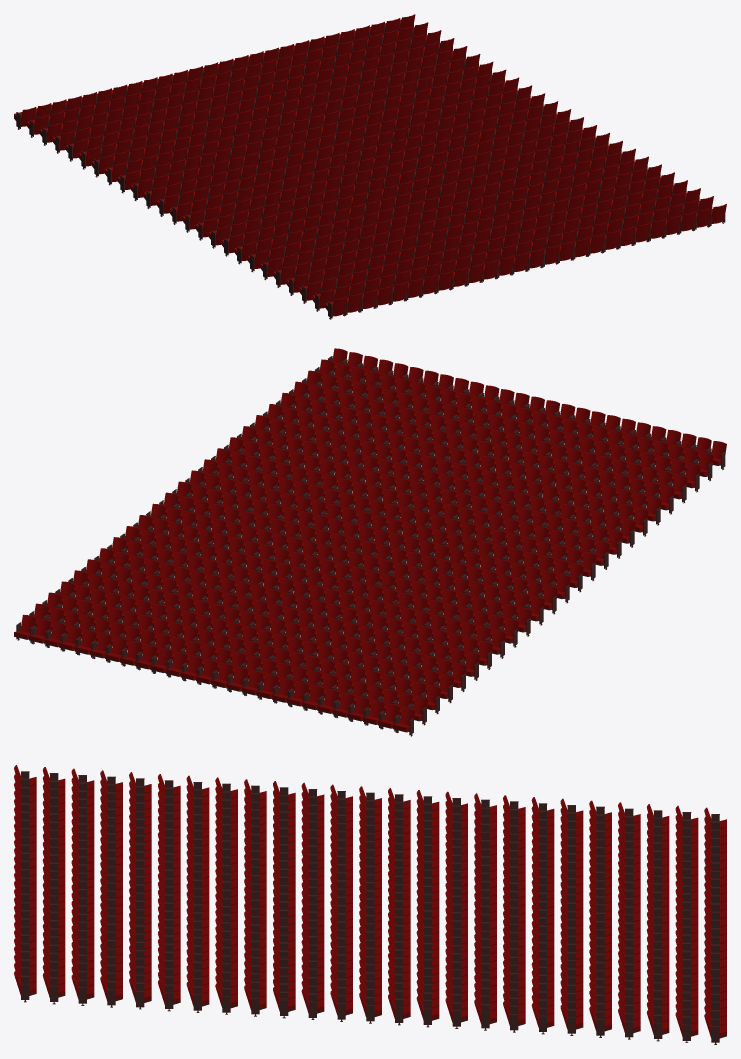
Rendered from CHAIR_SIT.FBX.
The picture shows the model from 3 angles, top to bottom: view 1: azimuth 30°, elevation 25°; view 2: azimuth 150°, elevation 25°; view 3: azimuth 270°, elevation 25°; orthographic projection. The views are drawn at different scales.
Parts seen in each view (by area): view 1: Object015; view 2: Object015; view 3: Object015.
Boxes of the visible parts, x1=… form: Object015: x1=14, y1=14, x2=726, y2=319; Object015: x1=14, y1=348, x2=726, y2=736; Object015: x1=14, y1=765, x2=726, y2=1044.
Bounding box in the file's own units: 1542 × 227 × 2180.
